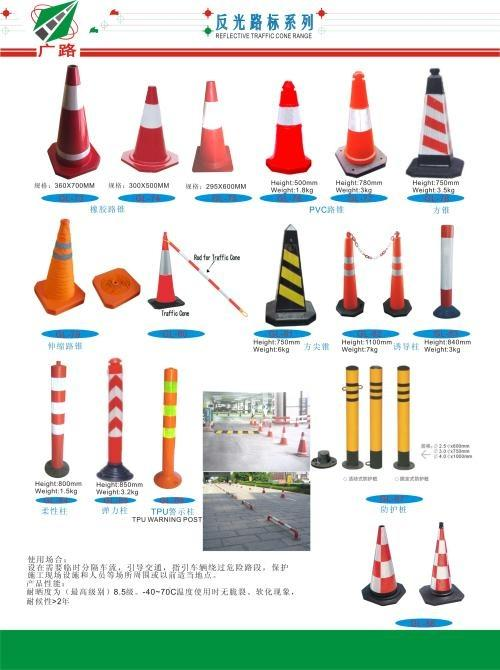cone_barrel: (47, 64, 102, 175), (408, 66, 461, 181), (334, 70, 386, 173), (264, 222, 315, 324), (94, 355, 134, 485), (33, 215, 85, 314), (188, 75, 236, 181), (263, 78, 313, 174), (122, 83, 176, 171), (151, 367, 183, 493), (360, 521, 404, 602), (43, 355, 71, 479), (422, 519, 459, 601), (146, 229, 183, 311), (430, 218, 460, 319), (391, 361, 413, 473), (381, 229, 408, 319), (340, 361, 362, 470), (335, 230, 362, 317), (365, 359, 383, 471)
